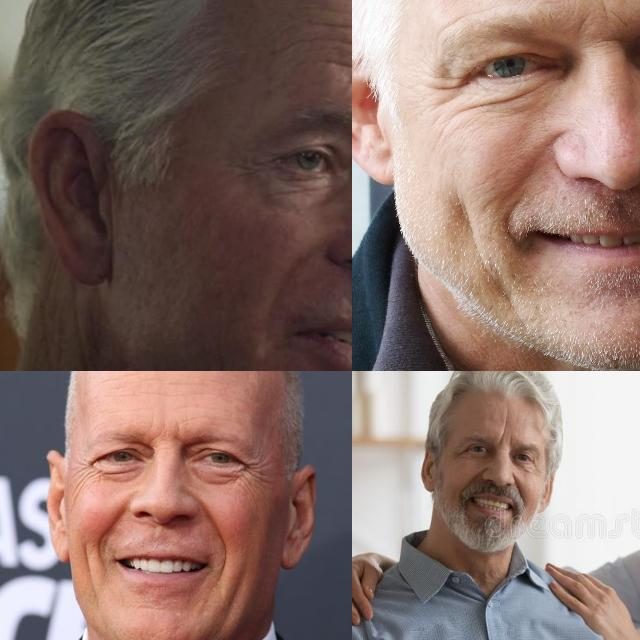crows_feet: (426, 66, 472, 106), (229, 146, 273, 178), (242, 455, 270, 493), (74, 454, 94, 488)
forehead: (327, 31, 352, 92), (496, 399, 514, 427)
frown_line: (582, 24, 622, 56), (150, 419, 166, 446), (171, 418, 187, 444), (493, 420, 509, 446)
gummy_smile: (202, 508, 230, 552), (97, 508, 119, 554), (212, 558, 232, 588), (465, 465, 483, 485), (514, 476, 526, 502)
masseter: (452, 200, 504, 290), (207, 340, 239, 371), (77, 544, 97, 582)
